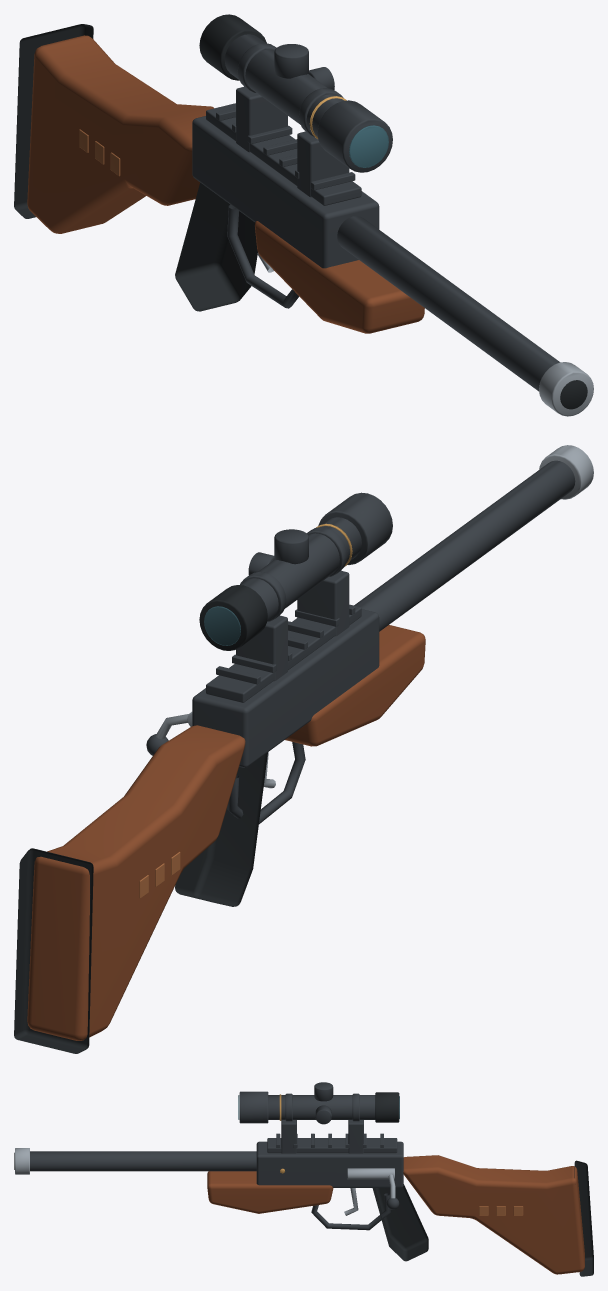
File: ks-rifle-sport.glb
3 renders of one model, top to bottom at view 1: azimuth 30°, elevation 25°; view 2: azimuth 150°, elevation 25°; view 3: azimuth 270°, elevation 25°, orthographic. The views are drawn at different scales.
Visible parts, largest first — view 1: static_batch_Graphite, static_batch_Warm_walnut, static_batch_Soft_matte_contact_pads, static_batch_Satin_stainless_details, scope_glass_front, static_batch_Walnut_edge_grain; view 2: static_batch_Warm_walnut, static_batch_Graphite, static_batch_Soft_matte_contact_pads, static_batch_Satin_stainless_details, scope_glass_rear; view 3: static_batch_Graphite, static_batch_Warm_walnut, static_batch_Soft_matte_contact_pads, static_batch_Satin_stainless_details, bolt, static_batch_Walnut_edge_grain.
Part boxes in pixels (left/top/right/bottom): static_batch_Graphite: left=192, top=34, right=559, bottom=391; static_batch_Warm_walnut: left=27, top=35, right=424, bottom=333; static_batch_Soft_matte_contact_pads: left=14, top=14, right=587, bottom=409; static_batch_Satin_stainless_details: left=257, top=252, right=593, bottom=416; scope_glass_front: left=349, top=125, right=388, bottom=167; static_batch_Walnut_edge_grain: left=79, top=129, right=120, bottom=176; static_batch_Warm_walnut: left=27, top=625, right=425, bottom=1040; static_batch_Graphite: left=192, top=460, right=575, bottom=824; static_batch_Soft_matte_contact_pads: left=14, top=585, right=267, bottom=1053; static_batch_Satin_stainless_details: left=263, top=445, right=593, bottom=788; scope_glass_rear: left=204, top=606, right=240, bottom=645; static_batch_Graphite: left=30, top=1082, right=403, bottom=1230; static_batch_Warm_walnut: left=207, top=1155, right=584, bottom=1274; static_batch_Soft_matte_contact_pads: left=14, top=1092, right=593, bottom=1276; static_batch_Satin_stainless_details: left=15, top=1148, right=358, bottom=1215; bolt: left=347, top=1168, right=394, bottom=1179; static_batch_Walnut_edge_grain: left=479, top=1206, right=523, bottom=1215.
Size of the model in its own units: 0.166 by 0.4663 by 1.34.
